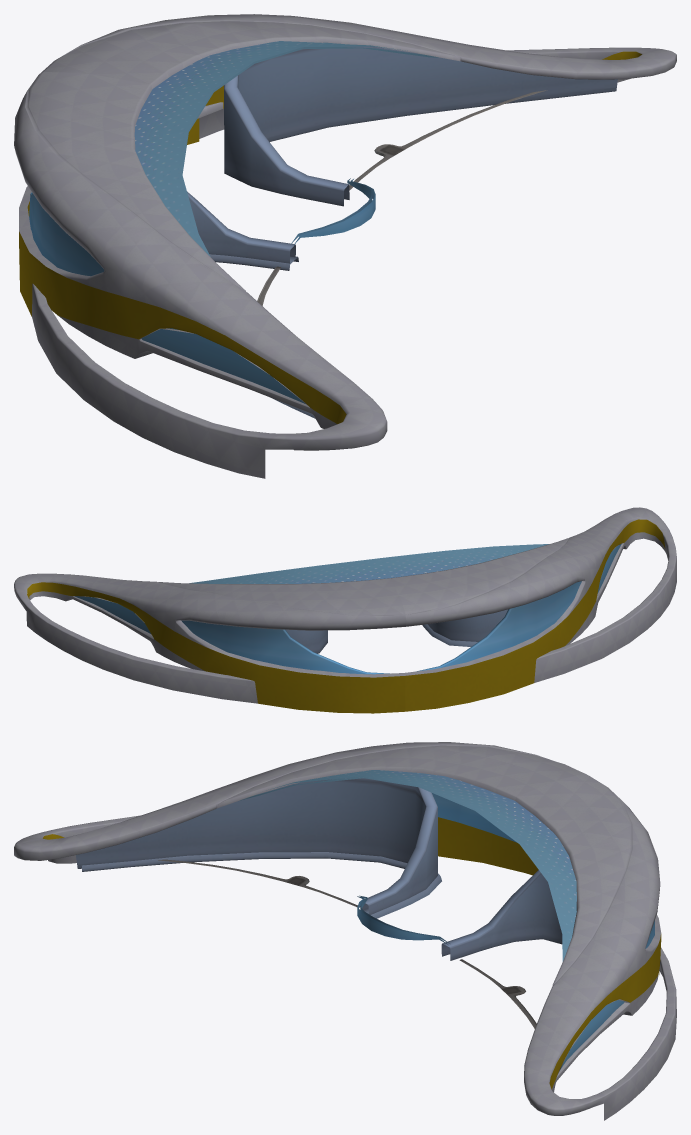
The model's file is pref_sm_beach_bk_pointmol_rightbuild02_lv1.fbx.
3 views of the same model, one above another, from view 1: azimuth 30°, elevation 25°; view 2: azimuth 150°, elevation 25°; view 3: azimuth 270°, elevation 25° (orthographic). The views are drawn at different scales.
Parts seen in each view (by area): view 1: sm_beach_bk_pointmol_rightbuild02a_lv1, sm_beach_bk_pointmol_rightbuild02b_lv1, sm_beach_bk_pointmol_rightbuild02c_lv1; view 2: sm_beach_bk_pointmol_rightbuild02a_lv1, sm_beach_bk_pointmol_rightbuild02b_lv1, sm_beach_bk_pointmol_rightbuild02c_lv1; view 3: sm_beach_bk_pointmol_rightbuild02a_lv1, sm_beach_bk_pointmol_rightbuild02b_lv1, sm_beach_bk_pointmol_rightbuild02c_lv1.
Boxes of the visible parts, box(x1,y1,x2,y2) form: sm_beach_bk_pointmol_rightbuild02a_lv1: box(14, 14, 676, 478); sm_beach_bk_pointmol_rightbuild02b_lv1: box(19, 46, 641, 424); sm_beach_bk_pointmol_rightbuild02c_lv1: box(29, 41, 438, 403); sm_beach_bk_pointmol_rightbuild02a_lv1: box(14, 507, 676, 703); sm_beach_bk_pointmol_rightbuild02b_lv1: box(27, 519, 665, 713); sm_beach_bk_pointmol_rightbuild02c_lv1: box(75, 544, 621, 674); sm_beach_bk_pointmol_rightbuild02a_lv1: box(14, 742, 676, 1120); sm_beach_bk_pointmol_rightbuild02b_lv1: box(43, 778, 661, 1089); sm_beach_bk_pointmol_rightbuild02c_lv1: box(240, 770, 654, 1069).
Bounding box in the file's own units: 48.71 × 9.67 × 45.16.
